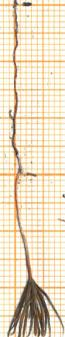flower: (1, 277, 65, 337)
root: (6, 0, 26, 175)
stem: (12, 174, 33, 277)
